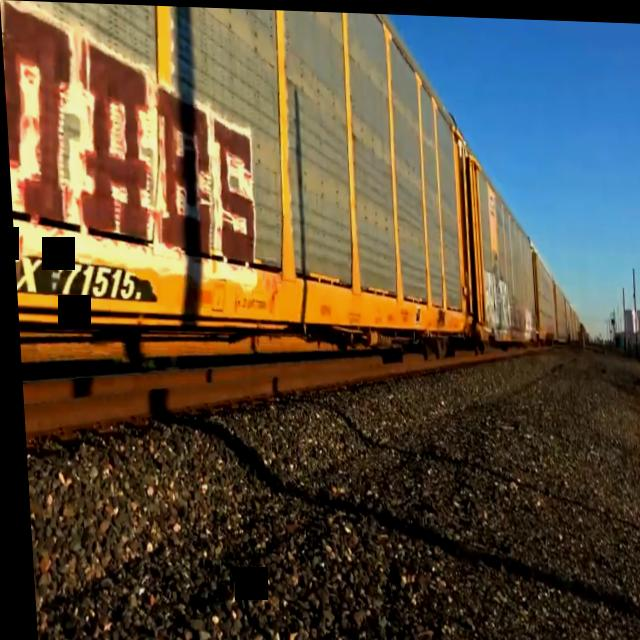autorack: (0, 0, 475, 412), (460, 135, 537, 355), (531, 247, 554, 343)
